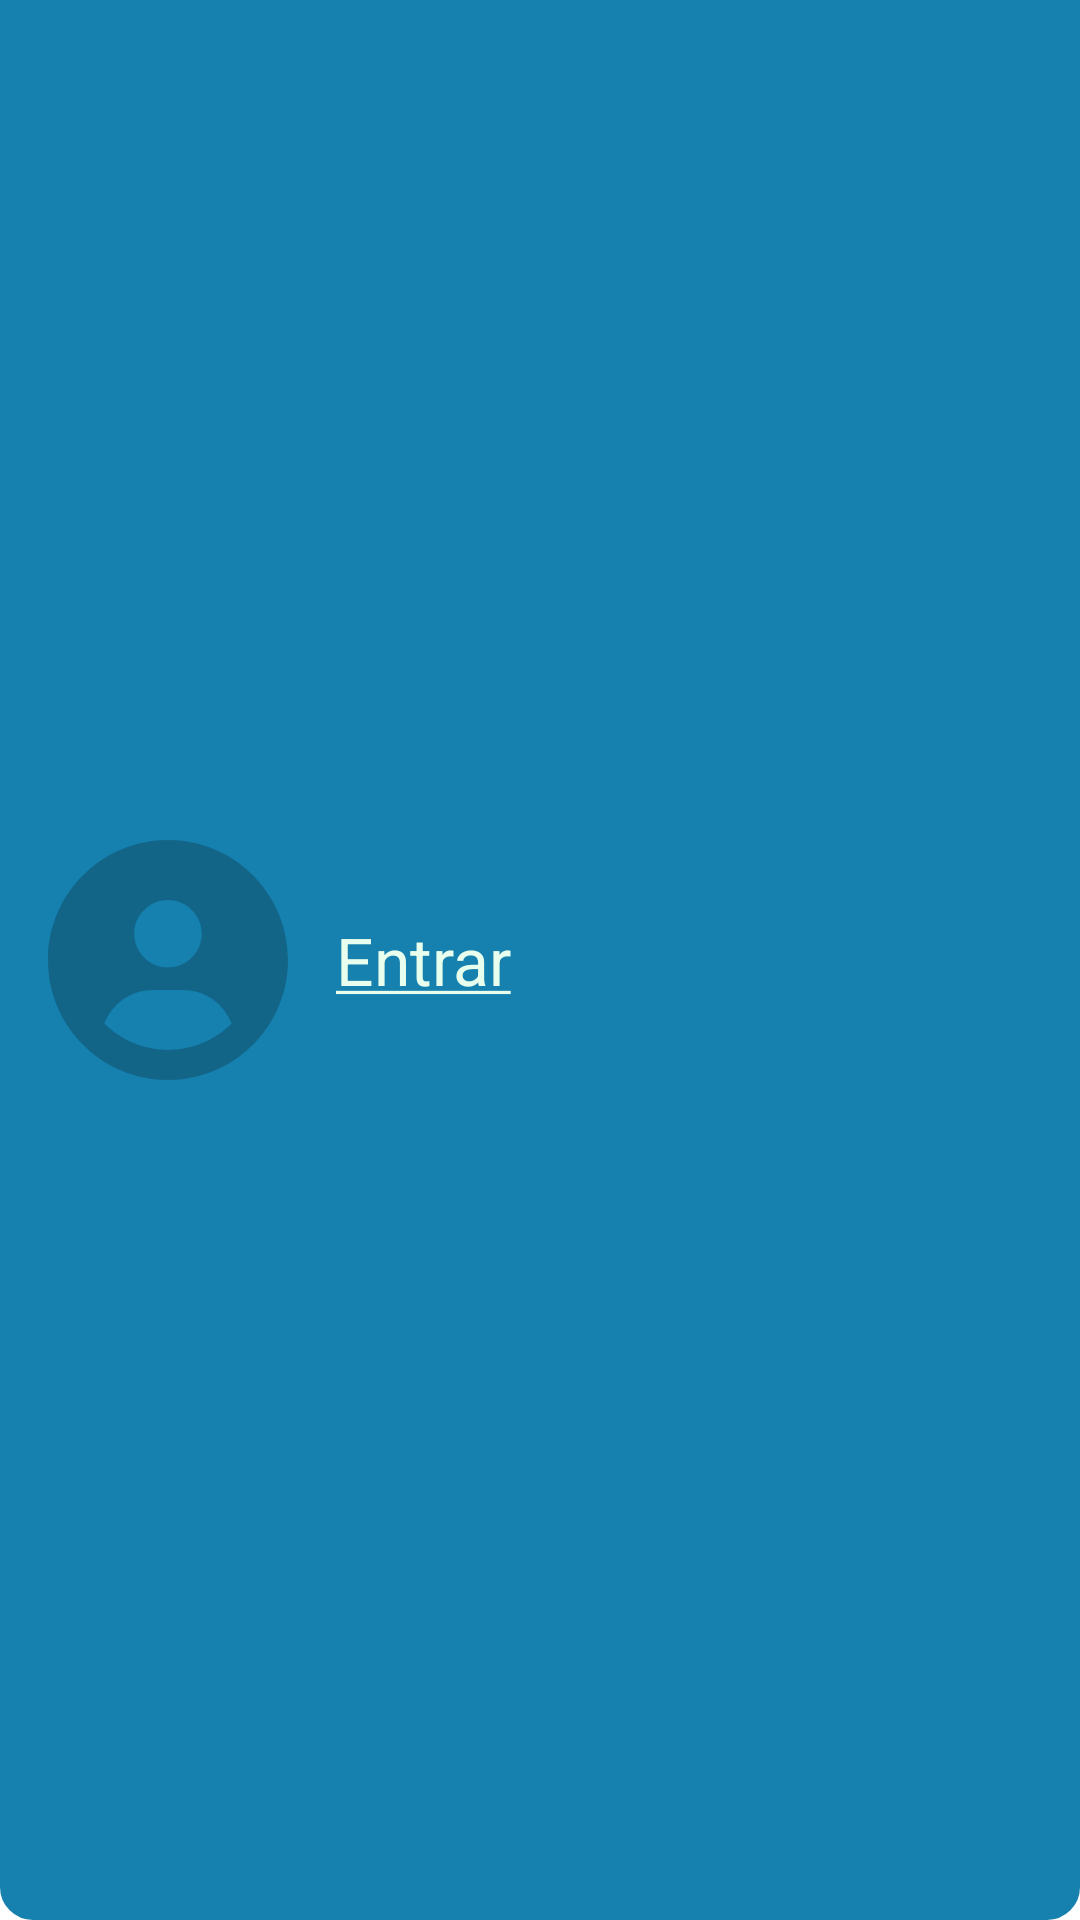

Screen size 1080 × 1920. Icon name, then its center in pixels as (x=x, y=y):
profile: (x=168, y=960)
